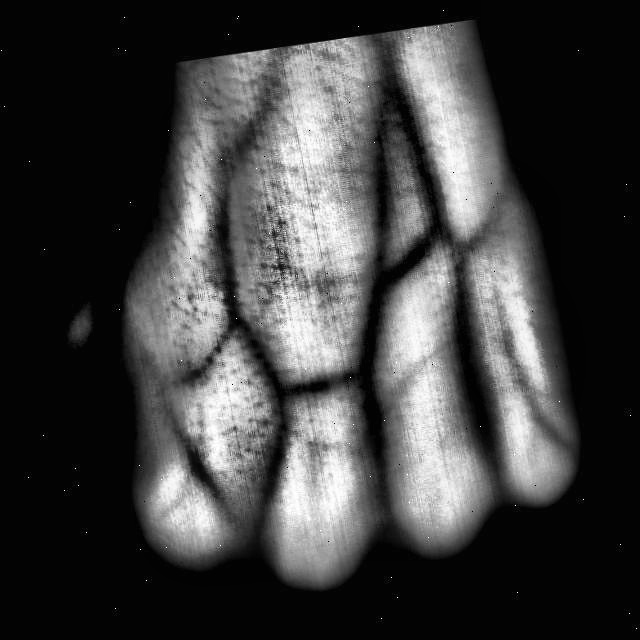Vein: (353, 93, 397, 362)
